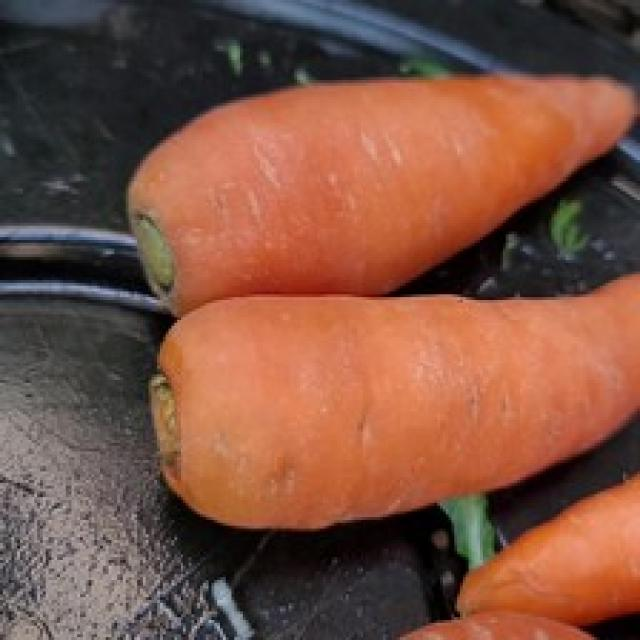Fresh_Carrot: (150, 274, 640, 528), (125, 72, 640, 307), (459, 474, 640, 633)
